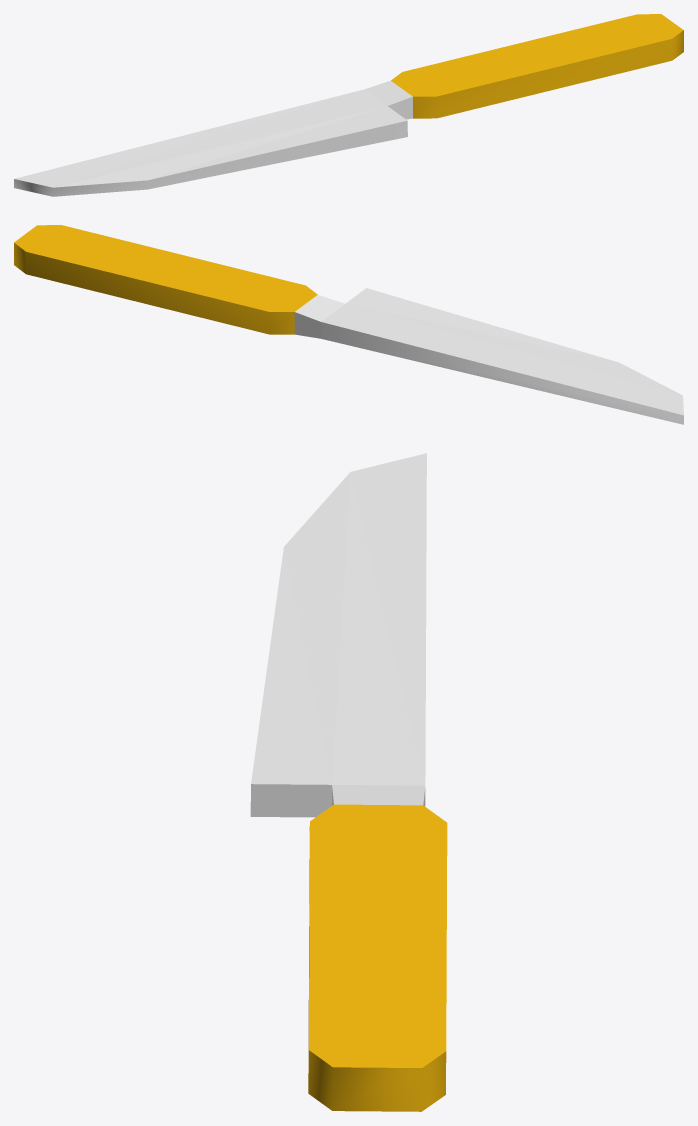
The model's file is Playing_House_knife.FBX.
3 renders of one model, top to bottom at view 1: azimuth 30°, elevation 25°; view 2: azimuth 150°, elevation 25°; view 3: azimuth 270°, elevation 25°, orthographic. The views are drawn at different scales.
Parts seen in each view (by area): view 1: Playing_House_knife; view 2: Playing_House_knife; view 3: Playing_House_knife.
Boxes of the visible parts, x1,y1,x2,y2 form: Playing_House_knife: (14,14,683,196); Playing_House_knife: (14,225,683,424); Playing_House_knife: (250,453,447,1111).
Size of the model in its own units: 87.7 by 2.98 by 11.55.
